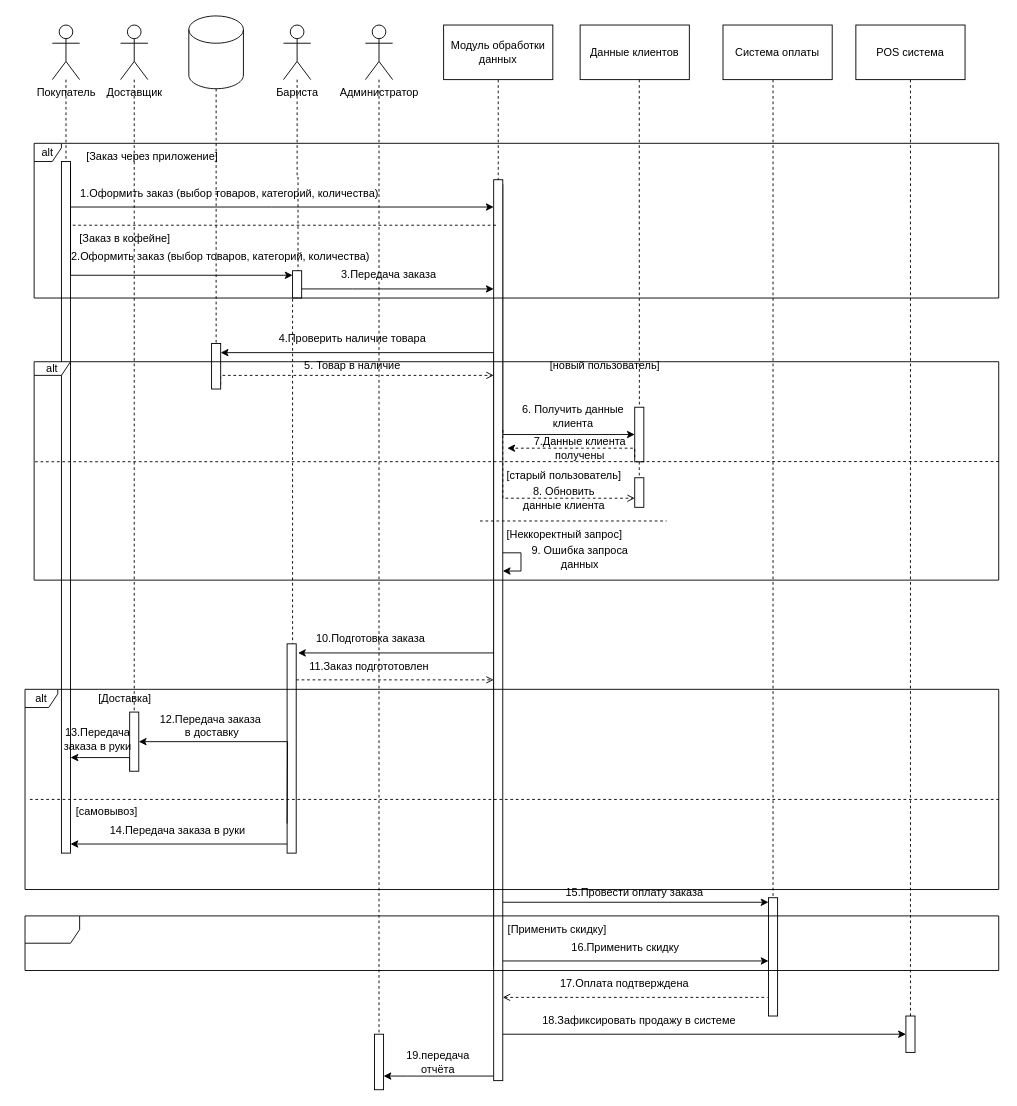
Image size: 1017x1106. Some labels were removed from this diagram. Each missing label, with the box of its shape:
opt: (24, 915, 999, 971)
База данных: (188, 15, 243, 89)
